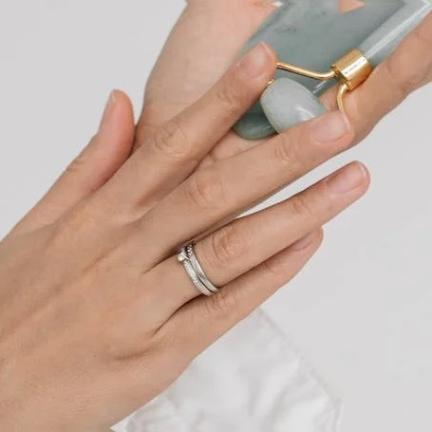Nail: (309, 108, 353, 142), (327, 162, 369, 193), (240, 43, 274, 77), (97, 89, 117, 131), (288, 229, 321, 249)
